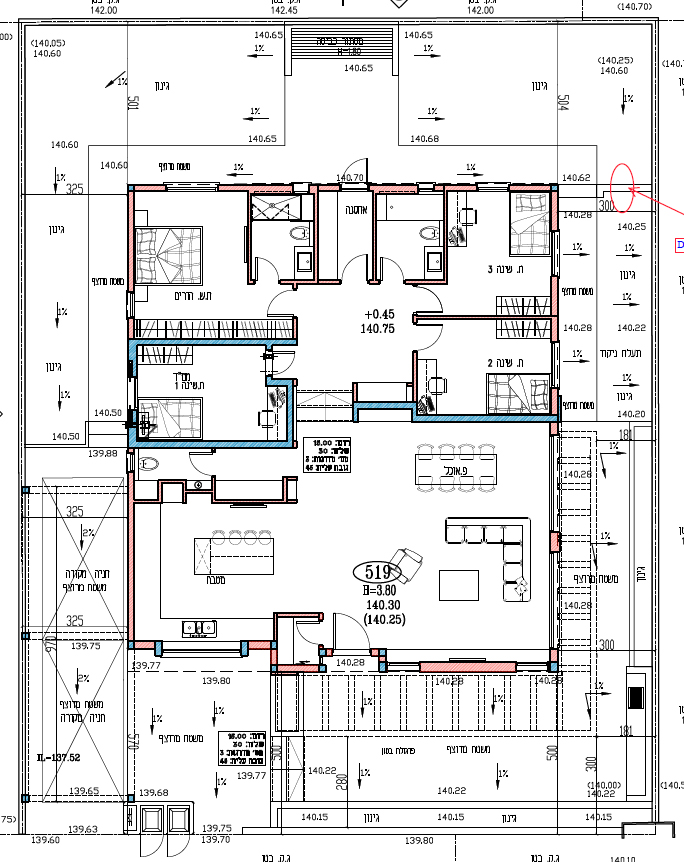door: (328, 607, 370, 644), (421, 322, 448, 352), (264, 290, 291, 318), (339, 154, 375, 175), (340, 252, 371, 276), (164, 837, 192, 862), (378, 253, 405, 278), (135, 836, 163, 860), (423, 285, 446, 314), (253, 253, 280, 276), (279, 349, 299, 375), (296, 619, 315, 646)
window: (165, 178, 218, 194), (548, 341, 561, 388), (475, 178, 510, 195), (551, 230, 561, 277)
